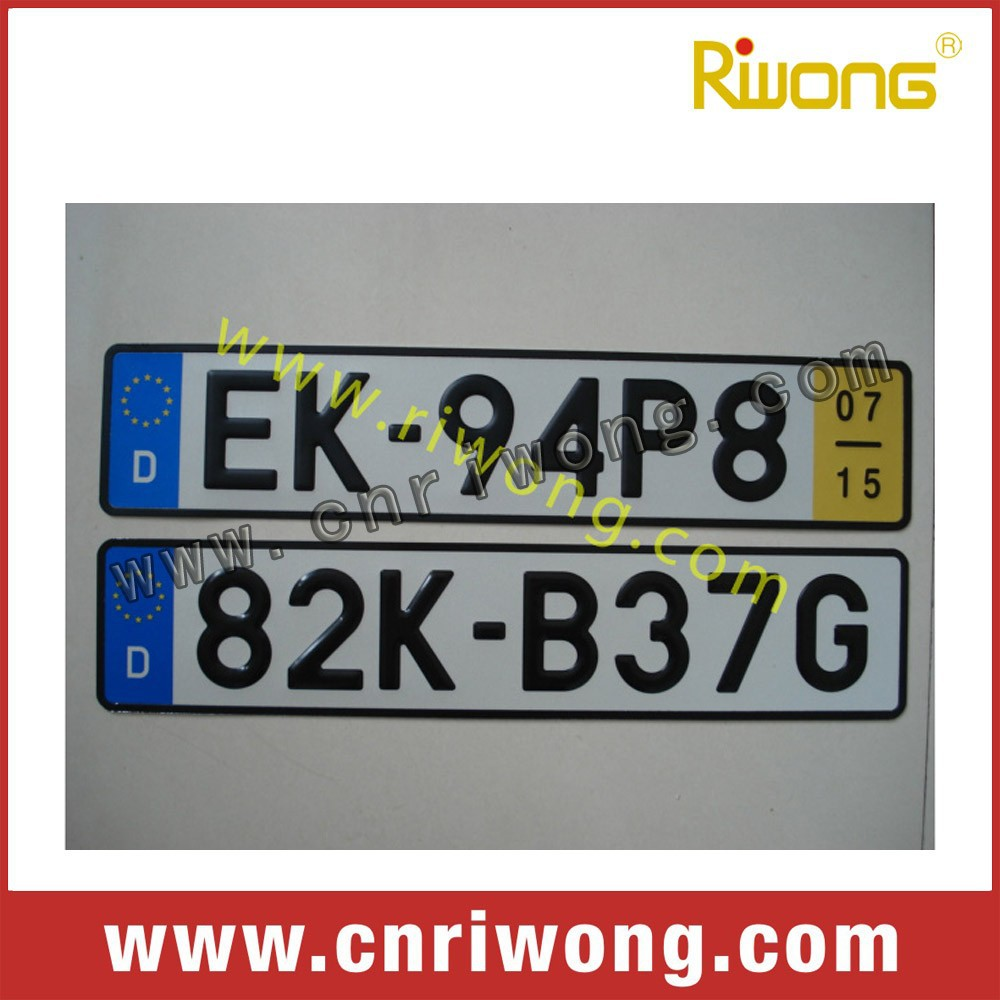inlp: (84, 543, 922, 730)
